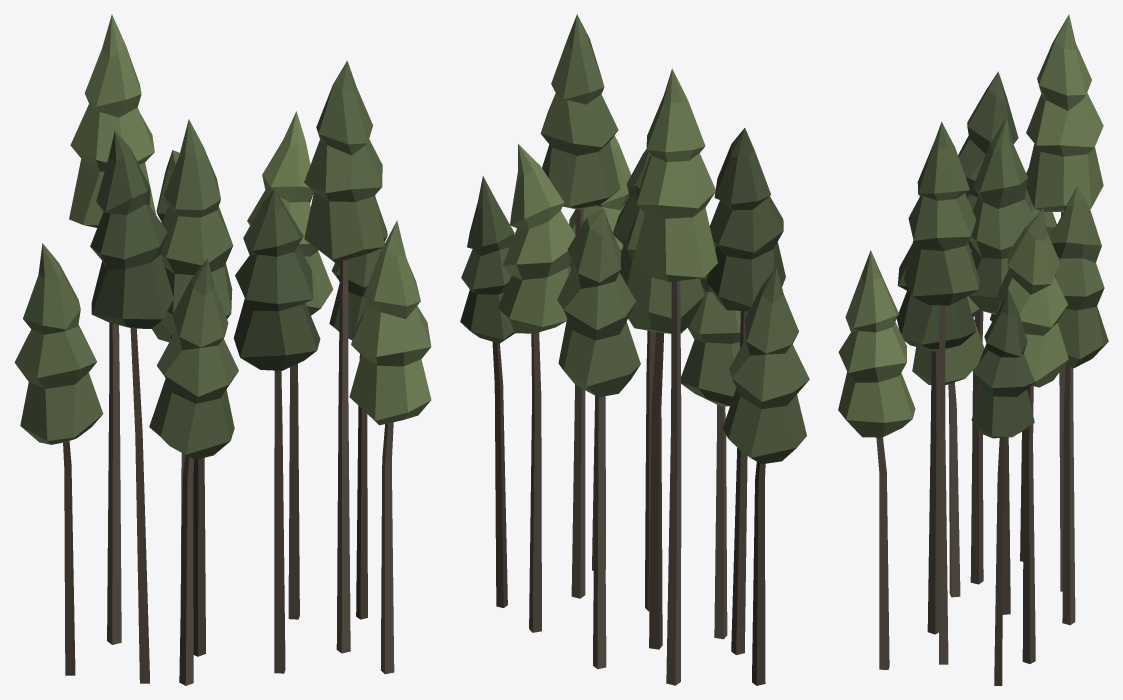
File: env_pines2.gltf
3 renders of one model, left to right at view 1: azimuth 30°, elevation 25°; view 2: azimuth 150°, elevation 25°; view 3: azimuth 270°, elevation 25°, orthographic. The views are drawn at different scales.
Parts seen in each view (by area): view 1: env_pines2; view 2: env_pines2; view 3: env_pines2.
Boxes of the visible parts, left/top/right/bottom form: env_pines2: left=14, top=14, right=431, bottom=685; env_pines2: left=460, top=14, right=809, bottom=685; env_pines2: left=838, top=14, right=1108, bottom=685.
Size of the model in its own units: 15.17 by 25.45 by 10.85.
Materials: 1 (1 with a texture image).
